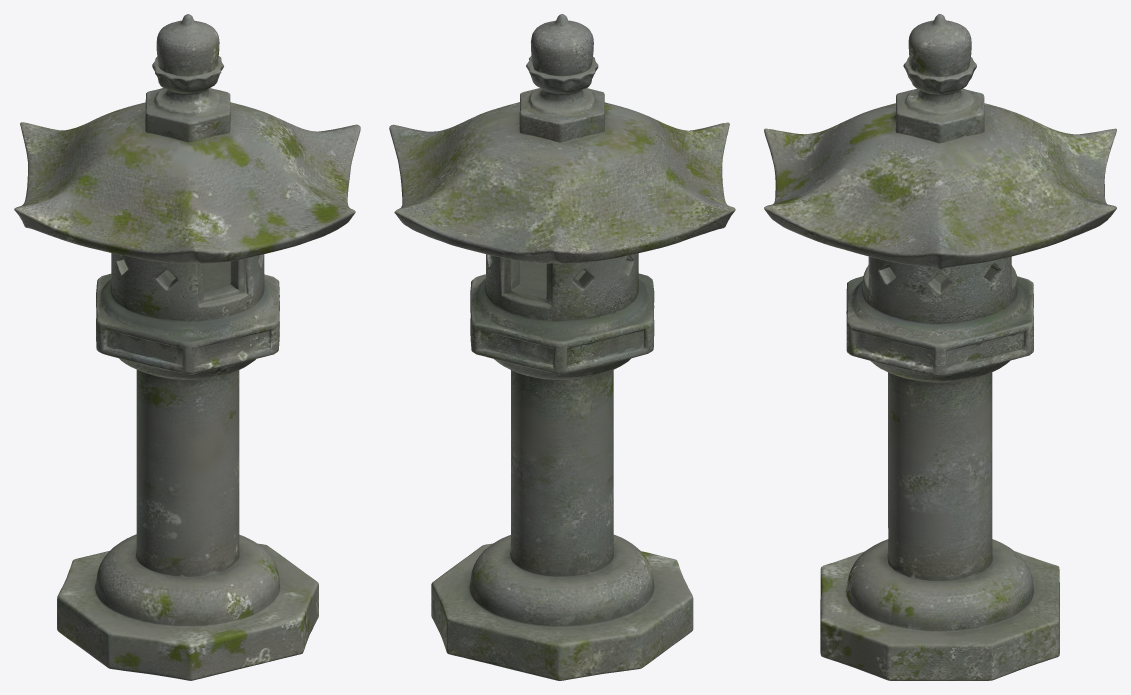
File: stone_lantern.glb
3 views of the same model, side by side, from view 1: azimuth 30°, elevation 25°; view 2: azimuth 150°, elevation 25°; view 3: azimuth 270°, elevation 25° (orthographic).
Parts seen in each view (by area): view 1: tripo_node_49e768be-5277-4ee9-8c4e-c77db06075b2; view 2: tripo_node_49e768be-5277-4ee9-8c4e-c77db06075b2; view 3: tripo_node_49e768be-5277-4ee9-8c4e-c77db06075b2.
Boxes of the visible parts, box(x1,y1,x2,y2) form: tripo_node_49e768be-5277-4ee9-8c4e-c77db06075b2: box(14, 14, 360, 680); tripo_node_49e768be-5277-4ee9-8c4e-c77db06075b2: box(389, 14, 735, 680); tripo_node_49e768be-5277-4ee9-8c4e-c77db06075b2: box(764, 14, 1116, 680).
Bounding box in the file's own units: 0.5908 × 1 × 0.5195.
1 material, 1 textured.
